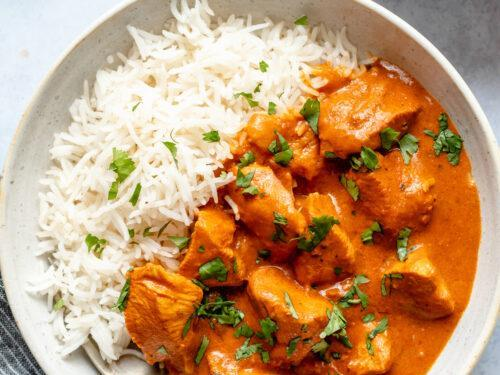chicken: (128, 56, 481, 375)
rice: (40, 21, 369, 371)
